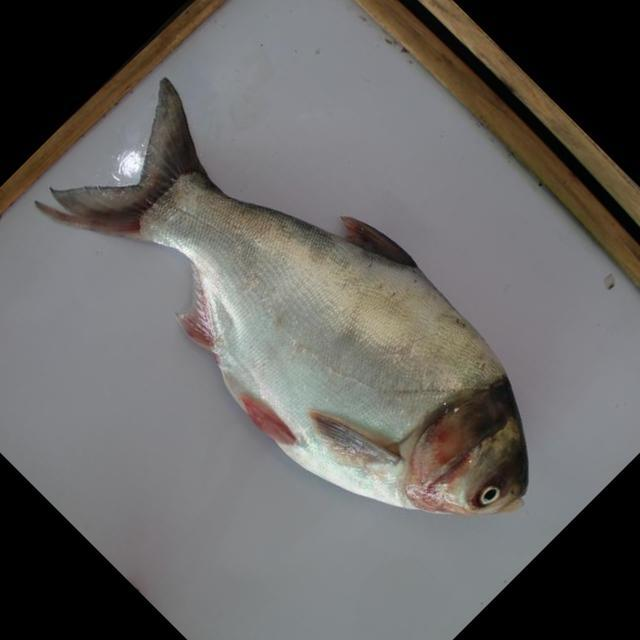SilverCarp: (72, 101, 549, 520)
